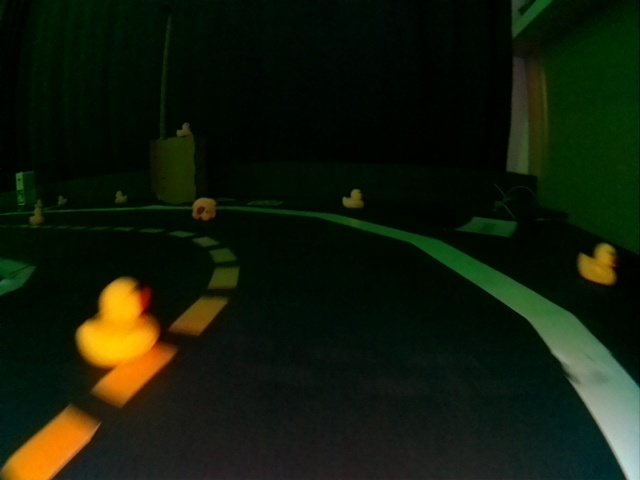Duckie: (79, 279, 157, 364), (579, 244, 616, 285), (192, 198, 216, 220), (342, 189, 363, 208), (29, 209, 42, 224), (176, 123, 191, 136), (115, 191, 126, 204)
QR code: (248, 199, 282, 207)
